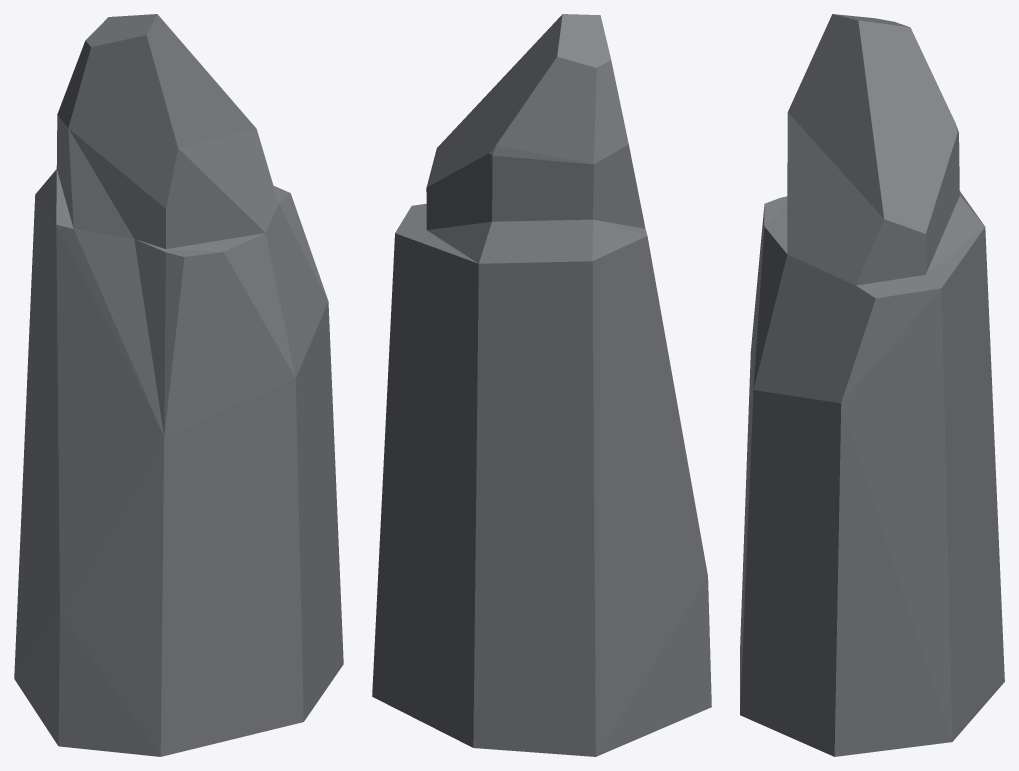
The model's file is Rock_Round_l_06.fbx.
The picture shows the model from 3 angles, left to right: view 1: azimuth 30°, elevation 25°; view 2: azimuth 150°, elevation 25°; view 3: azimuth 270°, elevation 25°; orthographic projection. The views are drawn at different scales.
Visible parts, largest first — view 1: Rock_Round_l_06; view 2: Rock_Round_l_06; view 3: Rock_Round_l_06.
Boxes of the visible parts, x1=… form: Rock_Round_l_06: x1=14, y1=14, x2=343, y2=756; Rock_Round_l_06: x1=372, y1=14, x2=711, y2=756; Rock_Round_l_06: x1=740, y1=14, x2=1004, y2=756.
Size of the model in its own units: 102 by 224 by 82.11.
